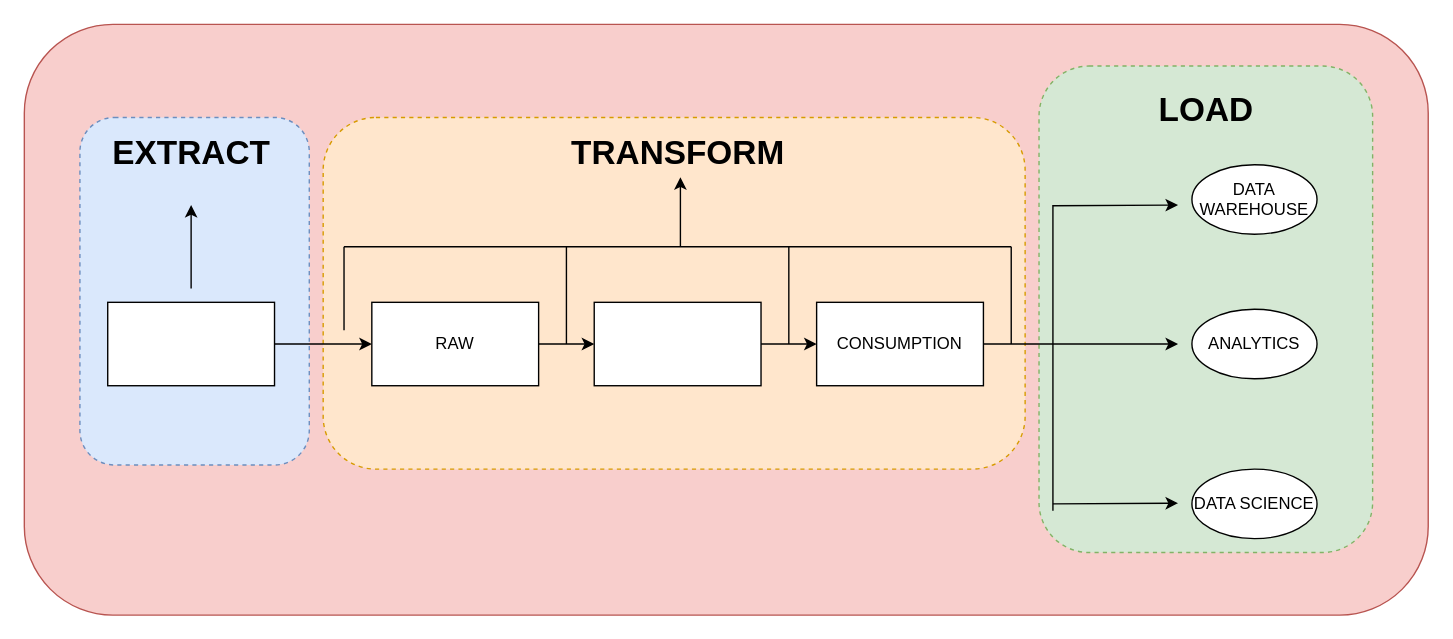
The diagram is 1453 pixels wide and 639 high, and some of its shapes have lost their labels. The shapes that lost their labels are listed below. From the top down, each one's centre as x and y in pixels, then its label:
At pixel 190 343: "DB SOURCE".
At pixel 677 343: "CLEAN".
